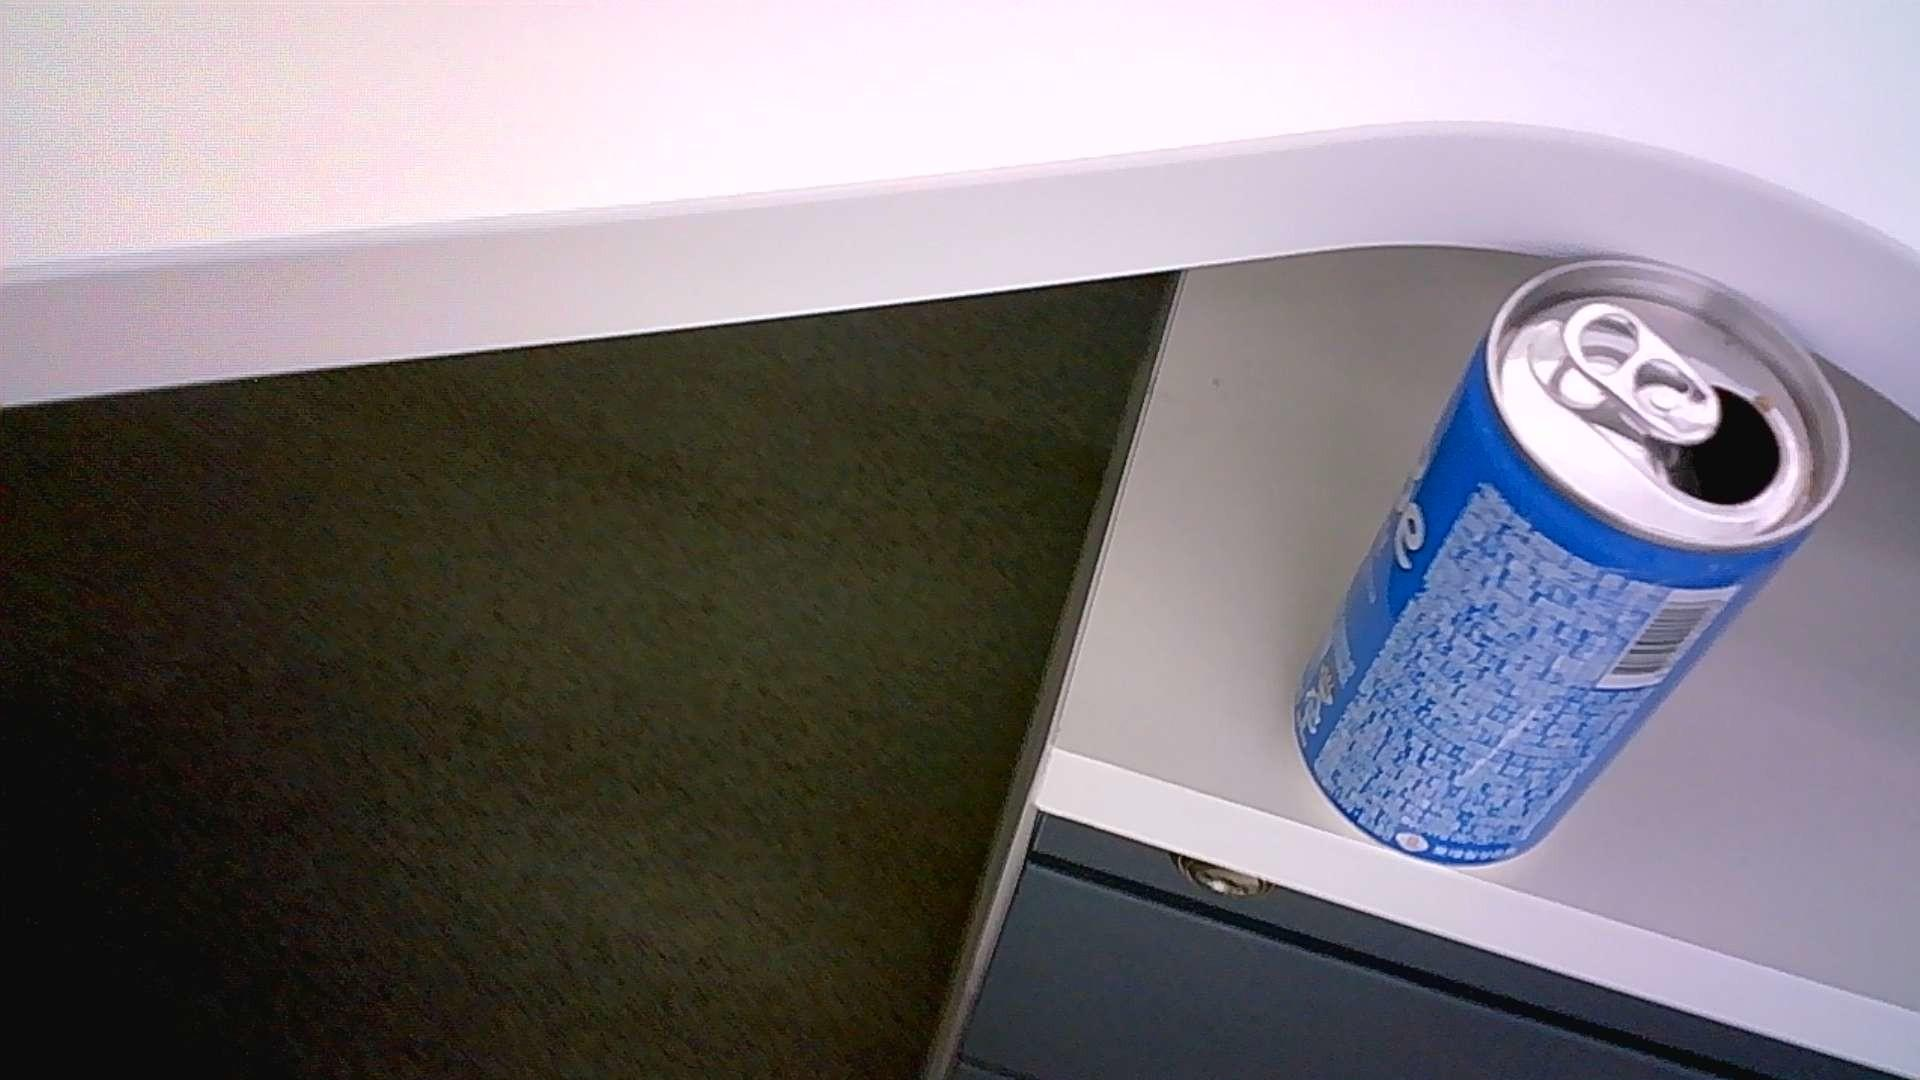letsbe: (1292, 256, 1850, 868)
